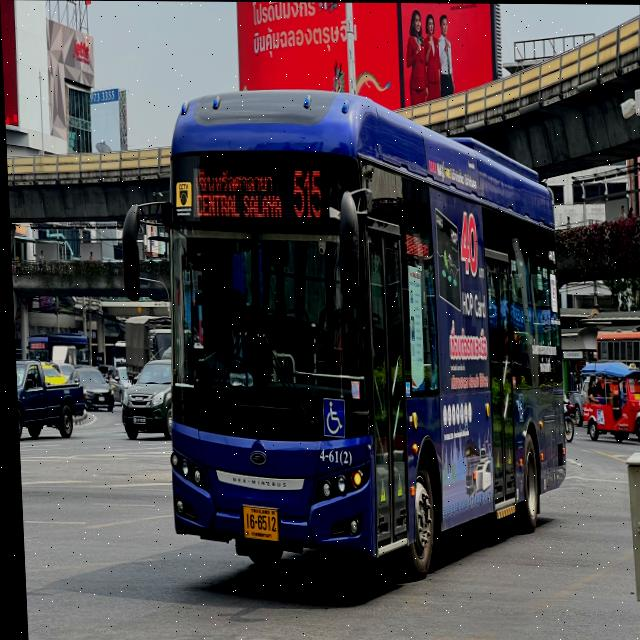Bus-Line-Number: (288, 158, 324, 225)
Destination-Sign-Normal: (185, 166, 287, 226)
TSB-Bus: (121, 88, 568, 580)
